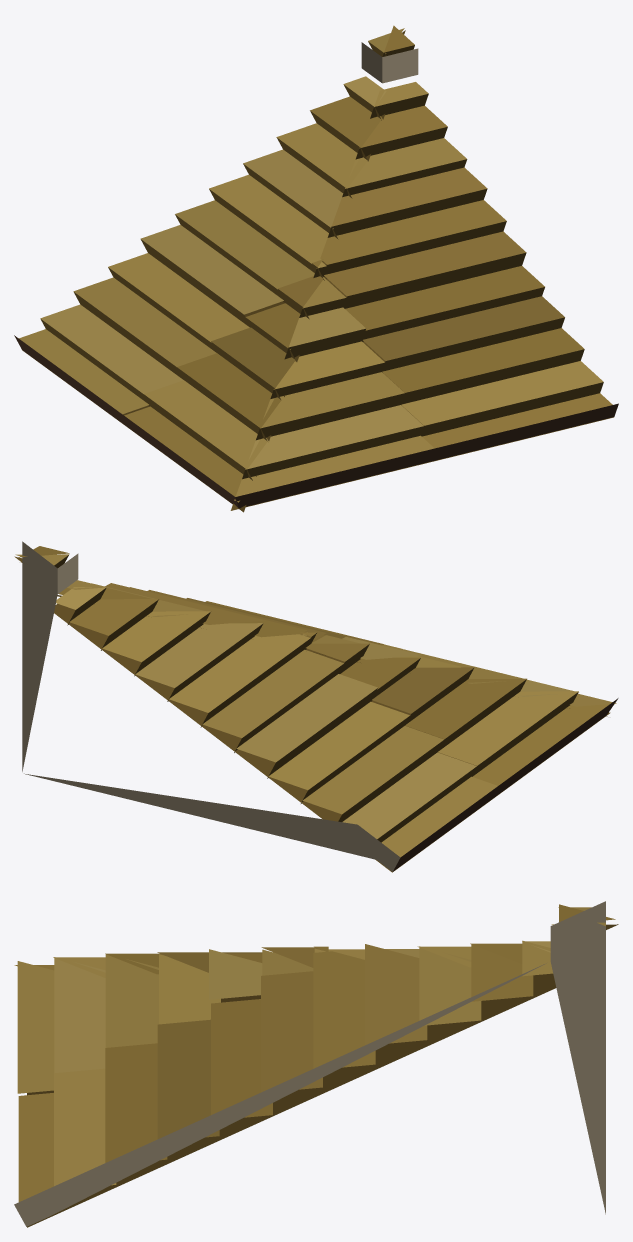
File: roof-corner-thatch.glb
3 views of the same model, one above another, from view 1: azimuth 30°, elevation 25°; view 2: azimuth 150°, elevation 25°; view 3: azimuth 270°, elevation 25° (orthographic). The views are drawn at different scales.
Visible parts, largest first — view 1: roof-corner-thatch; view 2: roof-corner-thatch; view 3: roof-corner-thatch.
Boxes of the visible parts, left/top/right/bottom form: roof-corner-thatch: left=14, top=25, right=618, bottom=512; roof-corner-thatch: left=14, top=541, right=618, bottom=872; roof-corner-thatch: left=14, top=901, right=618, bottom=1227.
Bounding box in the file's own units: 1.09 × 0.6501 × 1.09.
